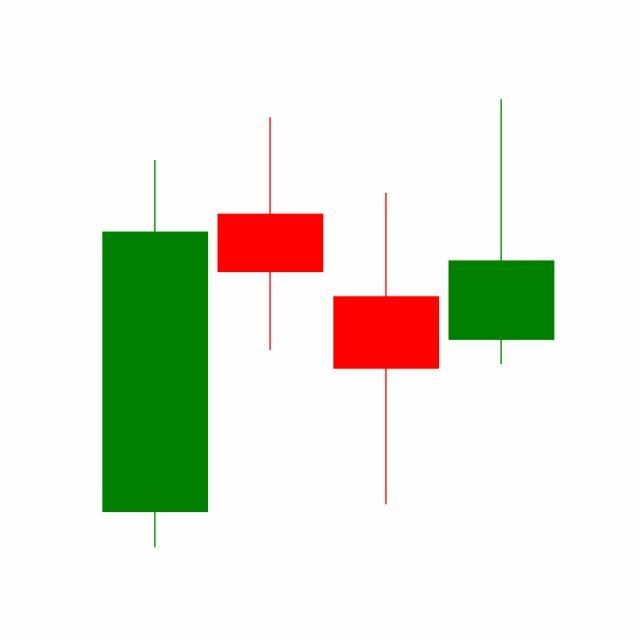Upside-Downside Gap Three Methods: (211, 100, 555, 511)
